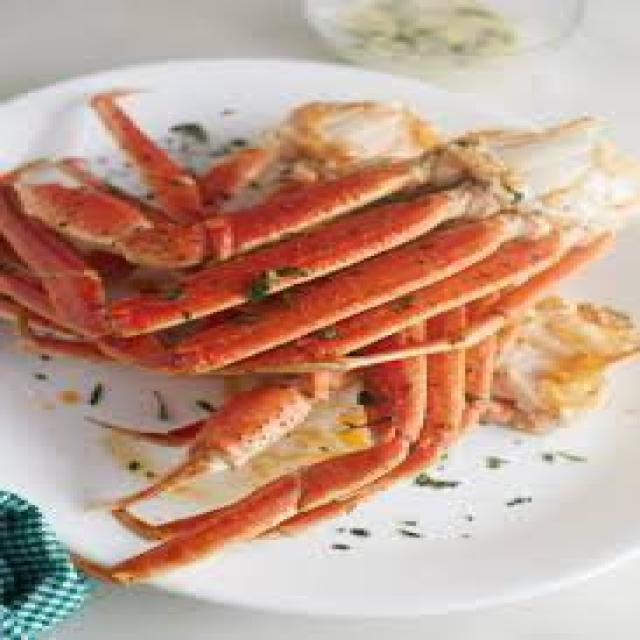crab: (86, 160, 494, 416)
